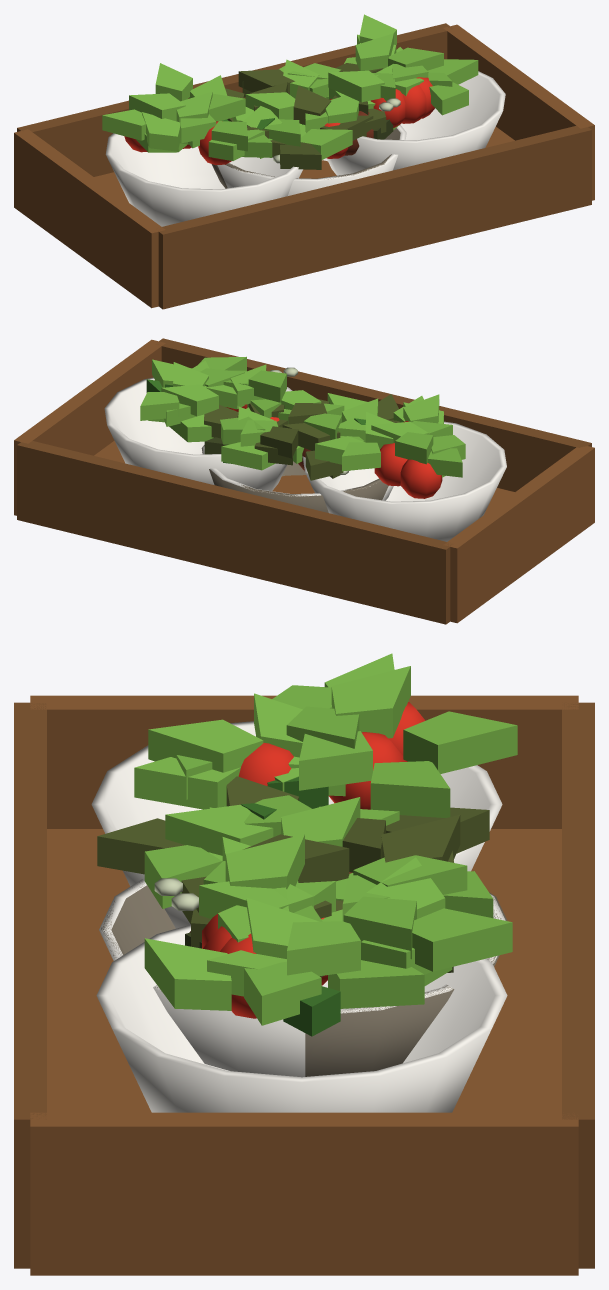
Rendered from Veg_Salad.fbx.
The picture shows the model from 3 angles, top to bottom: view 1: azimuth 30°, elevation 25°; view 2: azimuth 150°, elevation 25°; view 3: azimuth 270°, elevation 25°; orthographic projection. The views are drawn at different scales.
Parts seen in each view (by area): view 1: Veg_Salad__Stack, Veg_Salad, Veg_Salad__Rotten; view 2: Veg_Salad__Stack, Veg_Salad__Rotten, Veg_Salad; view 3: Veg_Salad__Stack, Veg_Salad__Rotten, Veg_Salad.
Boxes of the visible parts, bbox=[...] form: Veg_Salad__Stack: bbox=[14, 14, 594, 309]; Veg_Salad: bbox=[217, 59, 406, 195]; Veg_Salad__Rotten: bbox=[211, 63, 400, 188]; Veg_Salad__Stack: bbox=[14, 338, 594, 624]; Veg_Salad__Rotten: bbox=[201, 367, 400, 512]; Veg_Salad: bbox=[202, 390, 393, 500]; Veg_Salad__Stack: bbox=[14, 653, 594, 1275]; Veg_Salad__Rotten: bbox=[97, 776, 507, 1076]; Veg_Salad: bbox=[99, 797, 505, 1077].
Bounding box in the file's own units: 0.248 × 0.067 × 0.1413.
